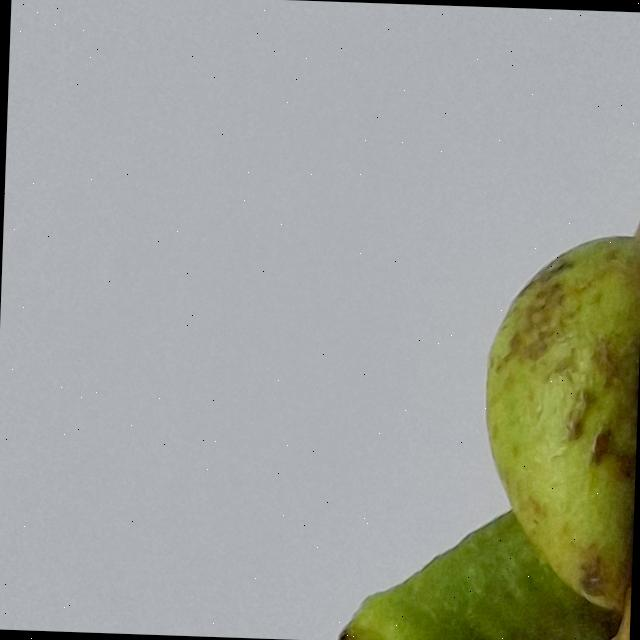mangosteen: (294, 0, 640, 640)
